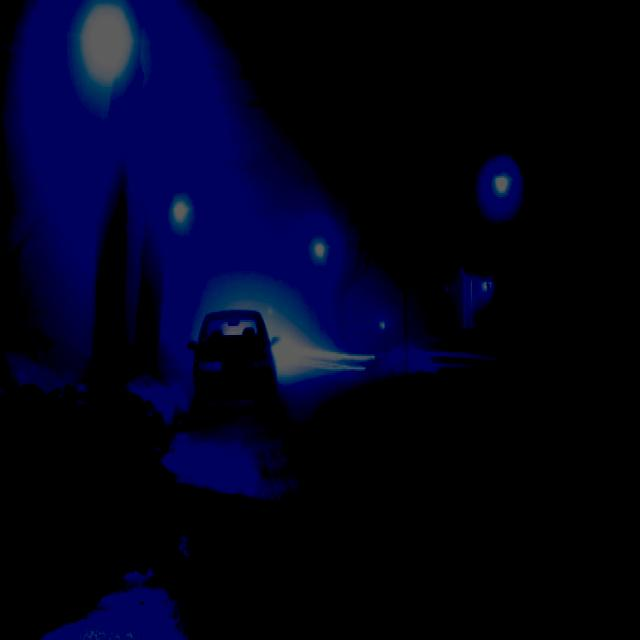Car: (186, 310, 283, 416)
